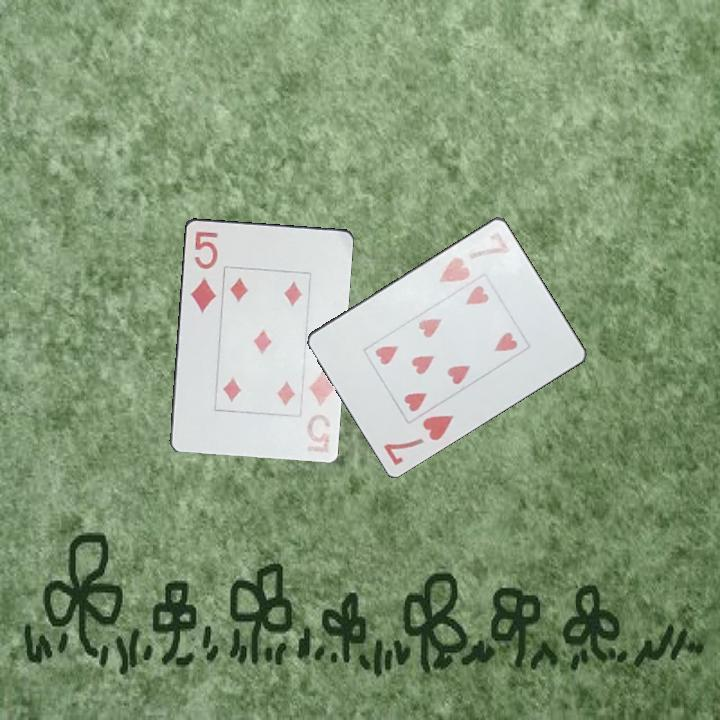5d: (187, 227, 221, 315), (303, 366, 338, 445)
7h: (435, 227, 513, 285), (380, 411, 457, 468)
